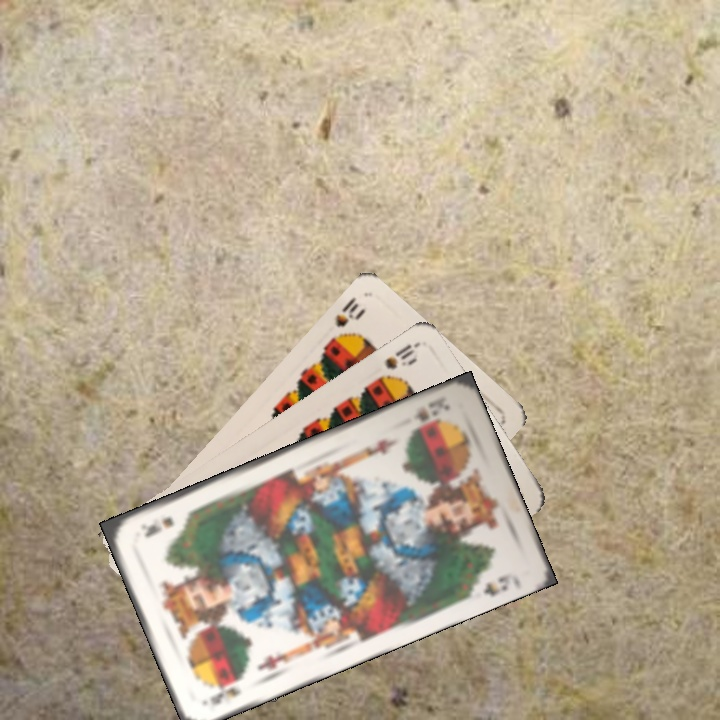S10: (326, 293, 368, 345), (381, 340, 419, 373)
SK: (205, 673, 247, 708), (409, 392, 453, 425)
